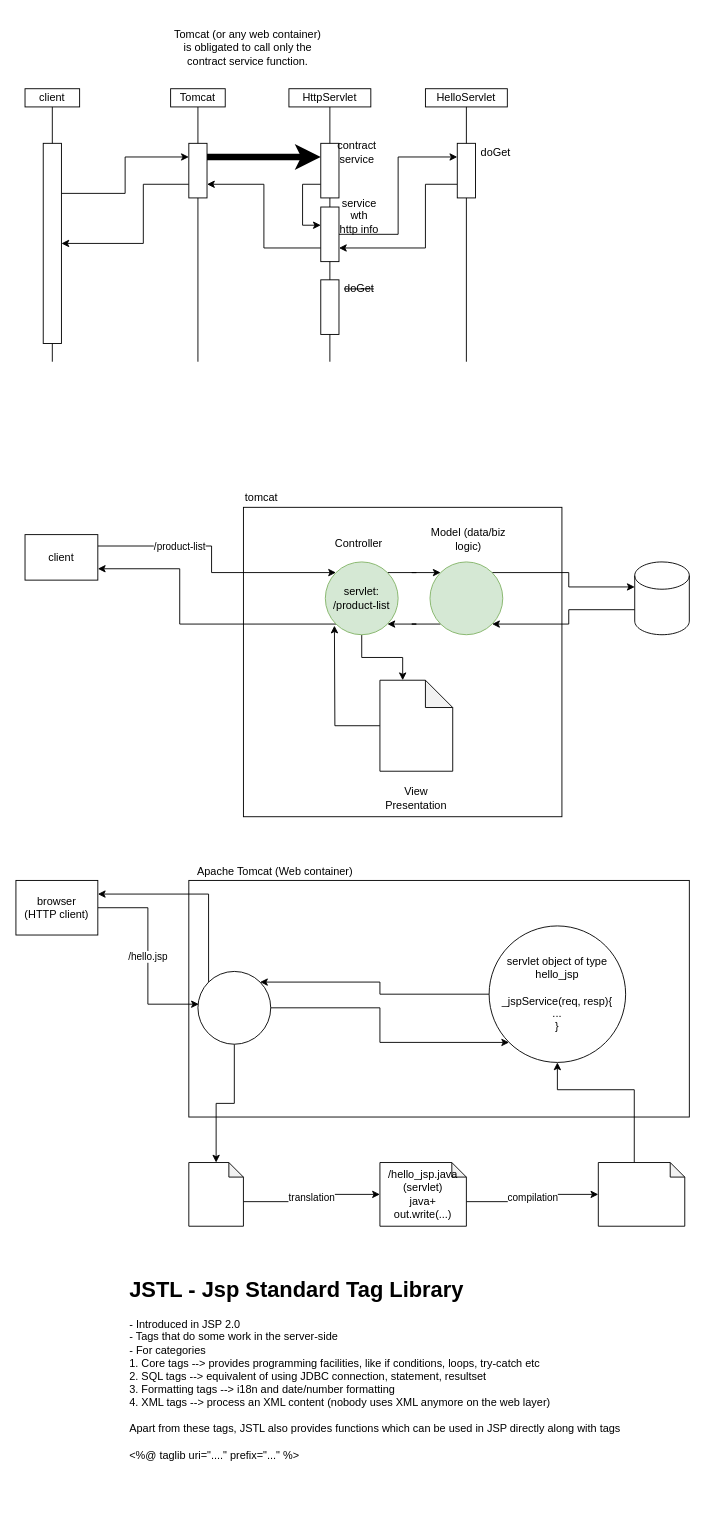
Some shapes in this 705 by 1514 pixel diagram are drawn without their labels. Each missing label, with the box of its shape:
/hello.jsp html+java: (188, 1162, 243, 1226)
/hello_jsp.class (servlet bytecode): (597, 1162, 685, 1226)
jsp (JspServlet) *.jsp *.jspx: (197, 971, 271, 1044)
JSP, Thymeleaf, freemarker, velocity: (379, 679, 453, 771)
ProductDao jpa: (429, 561, 503, 635)
